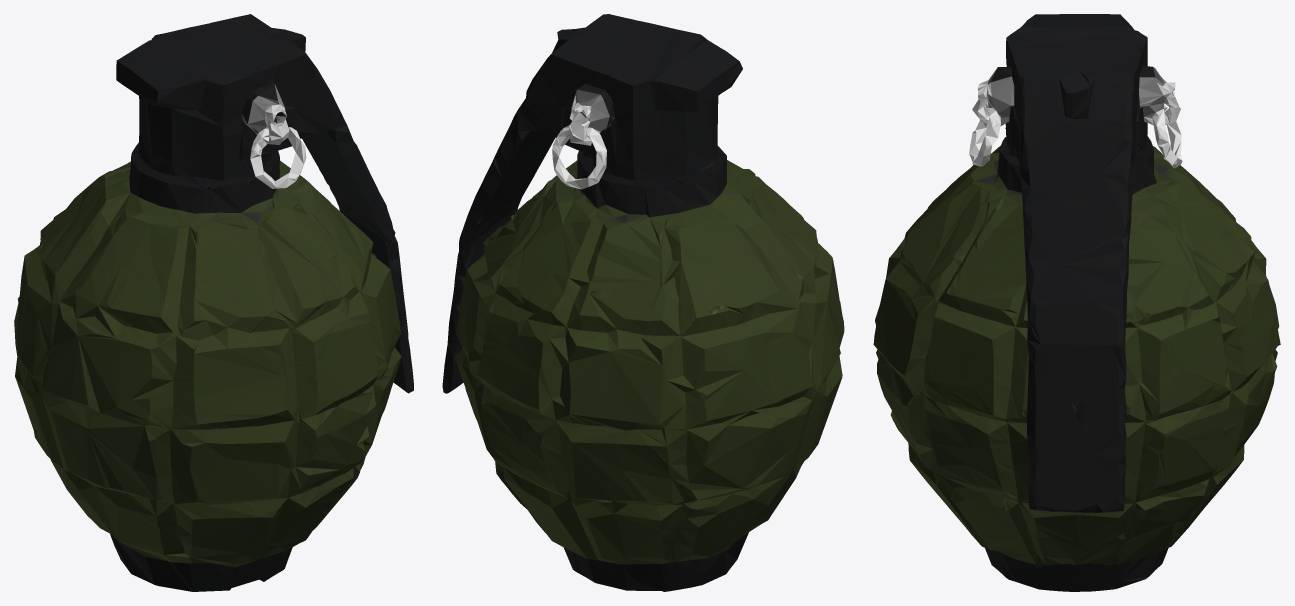
The model's file is grenade.obj.
The picture shows the model from 3 angles, left to right: view 1: azimuth 30°, elevation 25°; view 2: azimuth 150°, elevation 25°; view 3: azimuth 270°, elevation 25°; orthographic projection. The views are drawn at different scales.
Parts seen in each view (by area): view 1: grenade; view 2: grenade; view 3: grenade.
Boxes of the visible parts, x1=… form: grenade: x1=14, y1=14, x2=413, y2=591; grenade: x1=442, y1=14, x2=844, y2=591; grenade: x1=873, y1=14, x2=1280, y2=591.
Bounding box in the file's own units: 0.0737 × 0.1 × 0.0714.
1 material, 1 textured.
